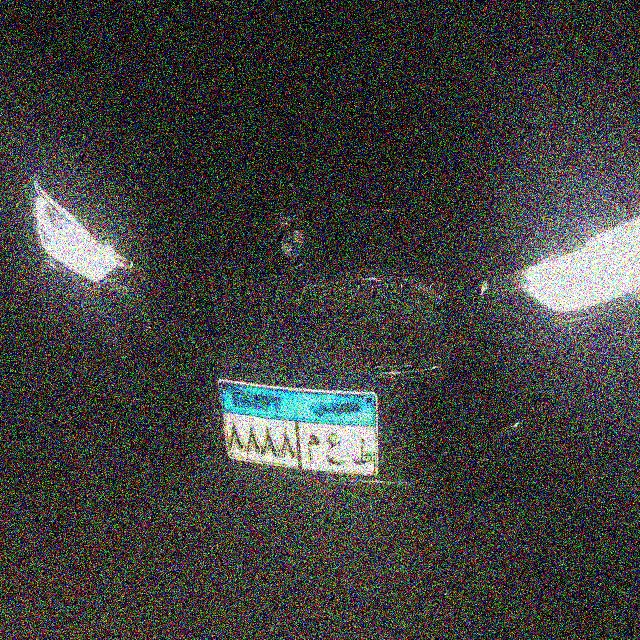License Plate: (216, 378, 381, 484)
